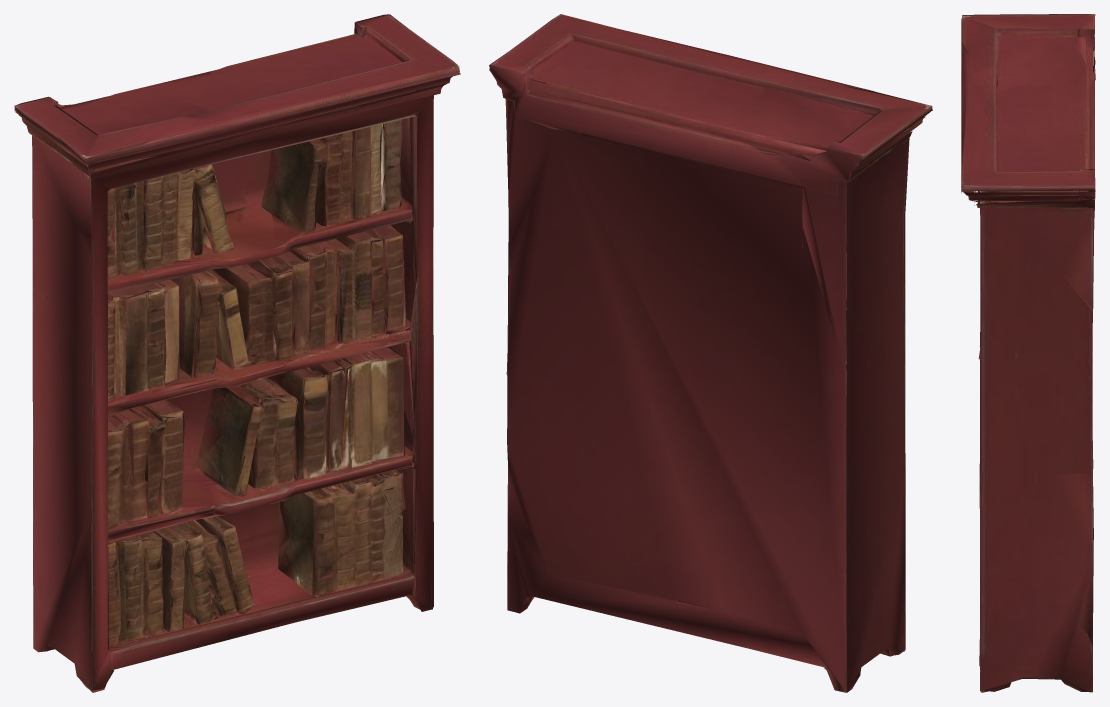
File: bookshelf-ledgers-interior-lod.glb
3 views of the same model, side by side, from view 1: azimuth 30°, elevation 25°; view 2: azimuth 150°, elevation 25°; view 3: azimuth 270°, elevation 25° (orthographic). The views are drawn at different scales.
Visible parts, largest first — view 1: Mesh_0; view 2: Mesh_0; view 3: Mesh_0.
Boxes of the visible parts, x1,y1,x2,y2 form: Mesh_0: (14, 14, 460, 692); Mesh_0: (489, 14, 932, 692); Mesh_0: (961, 14, 1095, 692).
Size of the model in its own units: 1.37 by 1.9 by 0.4502.
Materials: 1 (1 with a texture image).
